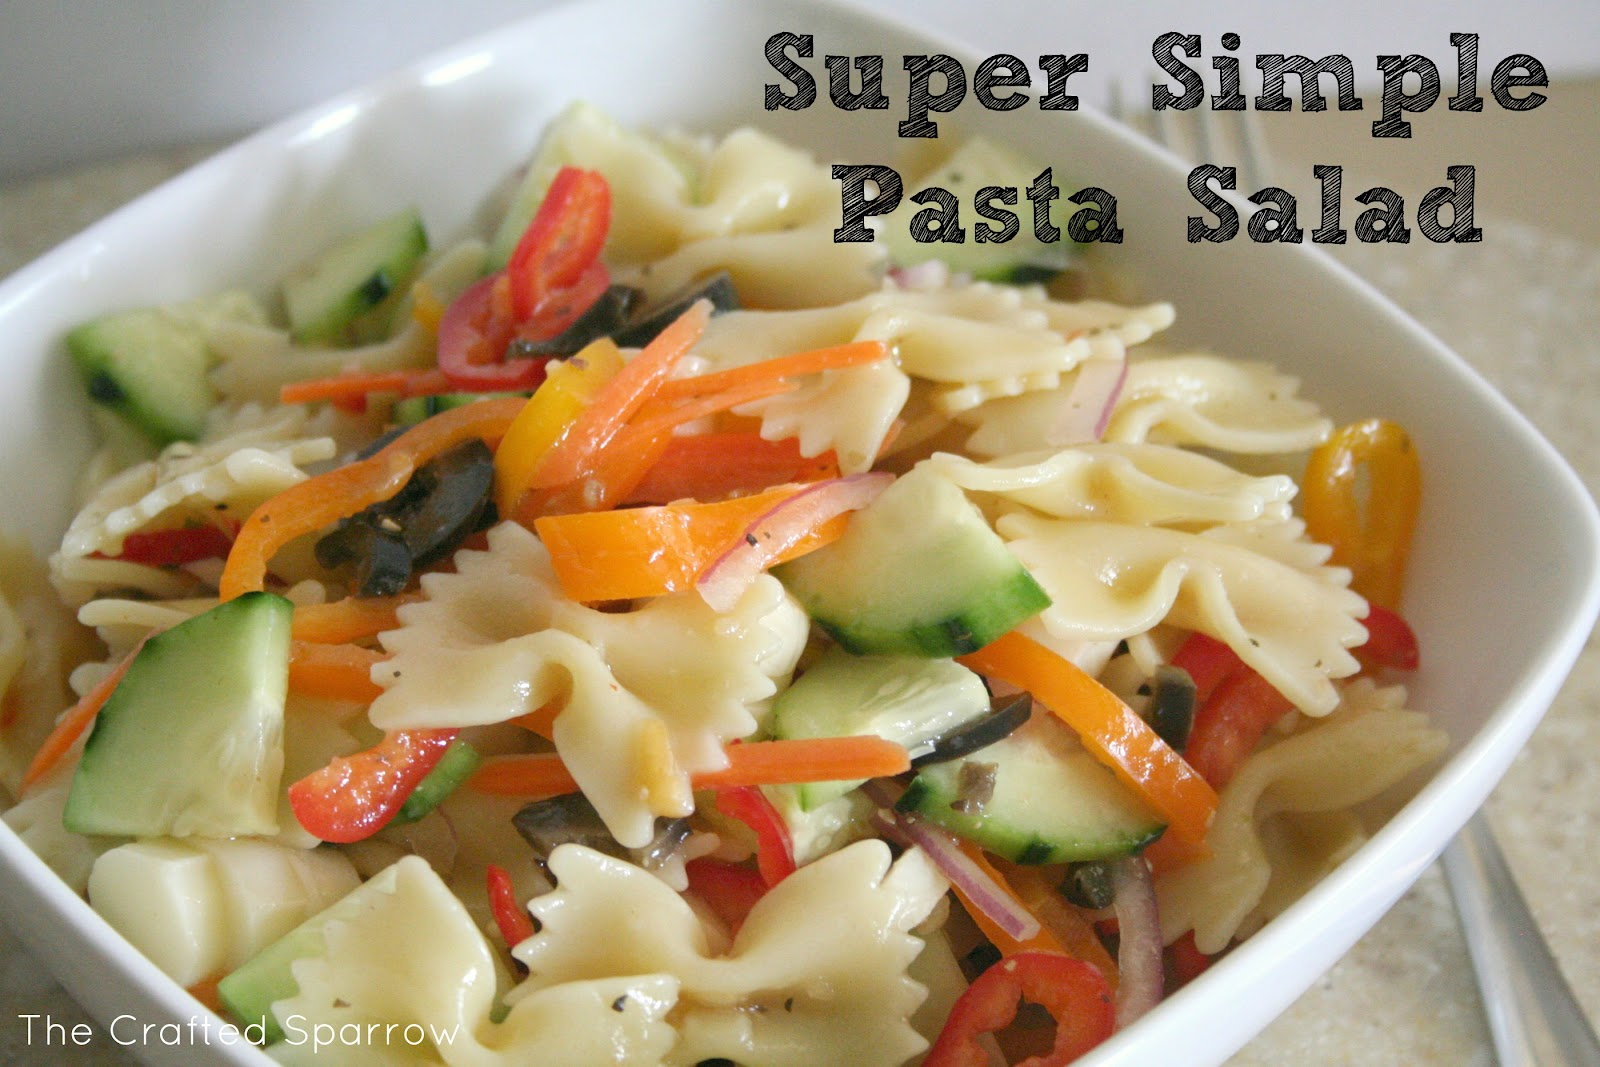plain spaghetti: (150, 112, 1361, 1067)
